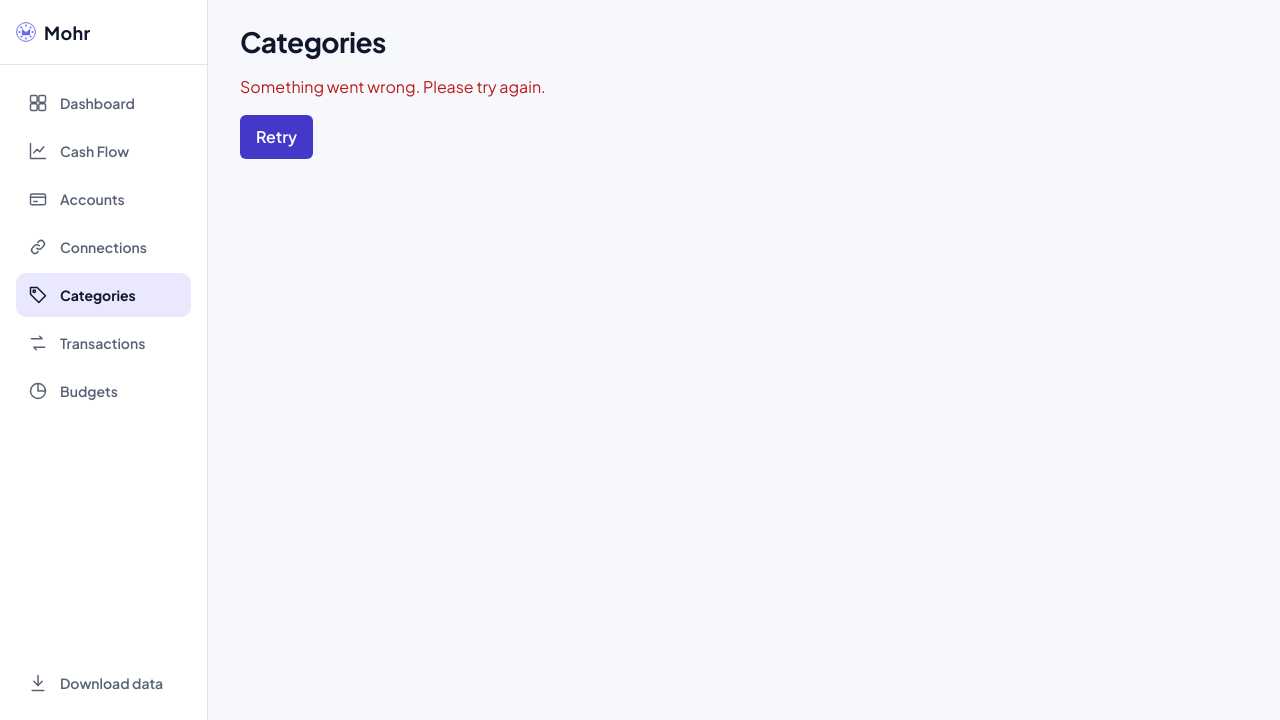
Test: categories list › retries a failed request and clears the stale error
Expected: the message shows "Something went wrong. Please try again.", top-left (240, 76), bottom-right (546, 97)
Click the button "Retry" at (277, 137), box top-left (240, 115), bottom-right (313, 159)
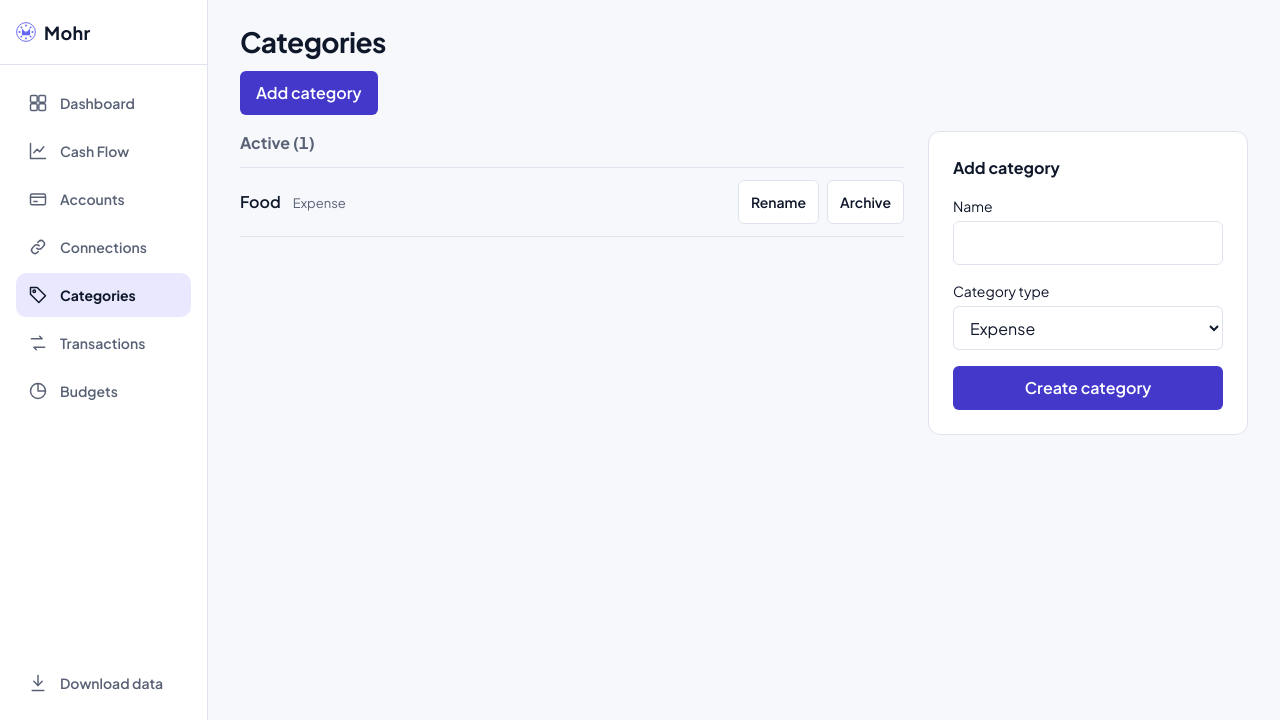
Result: the heading "Food" is shown at top-left (240, 190), bottom-right (281, 214)
Result: the message "Something went wrong. Please try again. Retry" is gone
